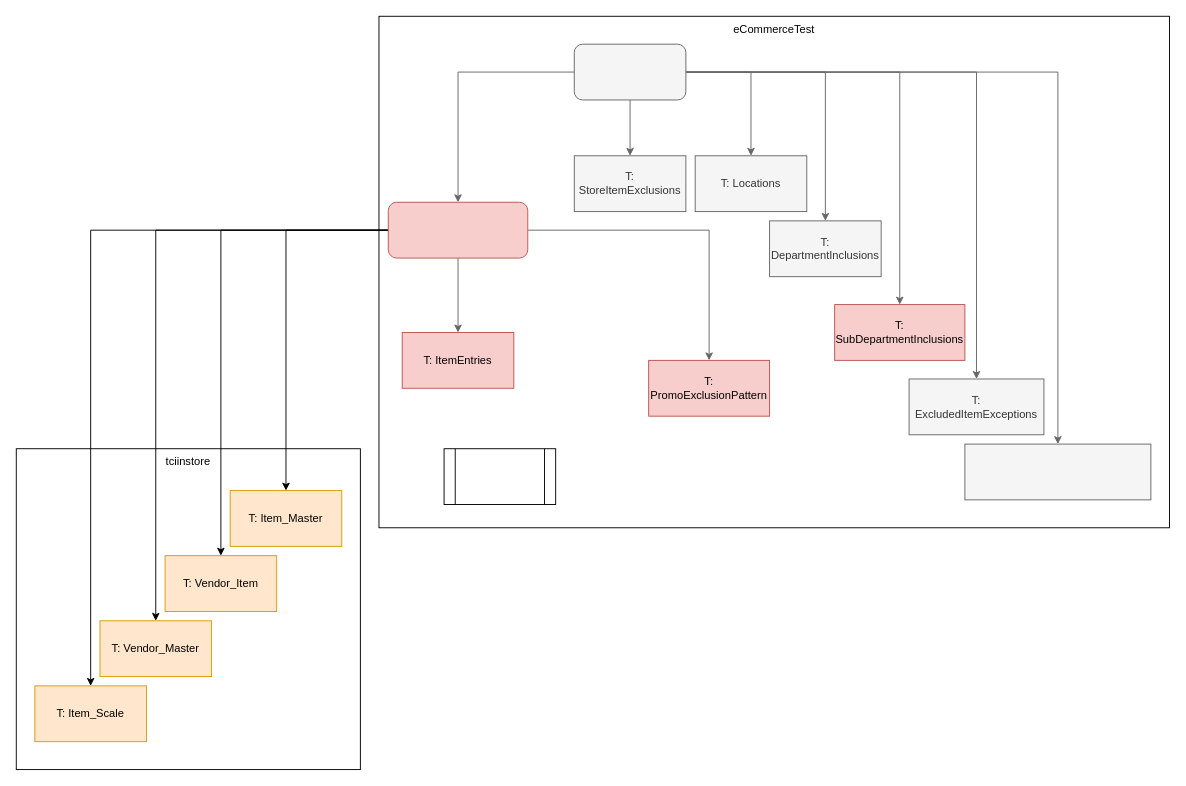
Image size: 1186x786. Some labels were removed from this diagram. The shapes that lost their labels are listed below. From the top down, each one's centre as x and y in pixels, then its label:
At (629,71): "V: LocationData".
At (457,229): "V: InvalidPromosExcluded".
At (1057,471): "T: SubDepartmentInclusionExceptions".
